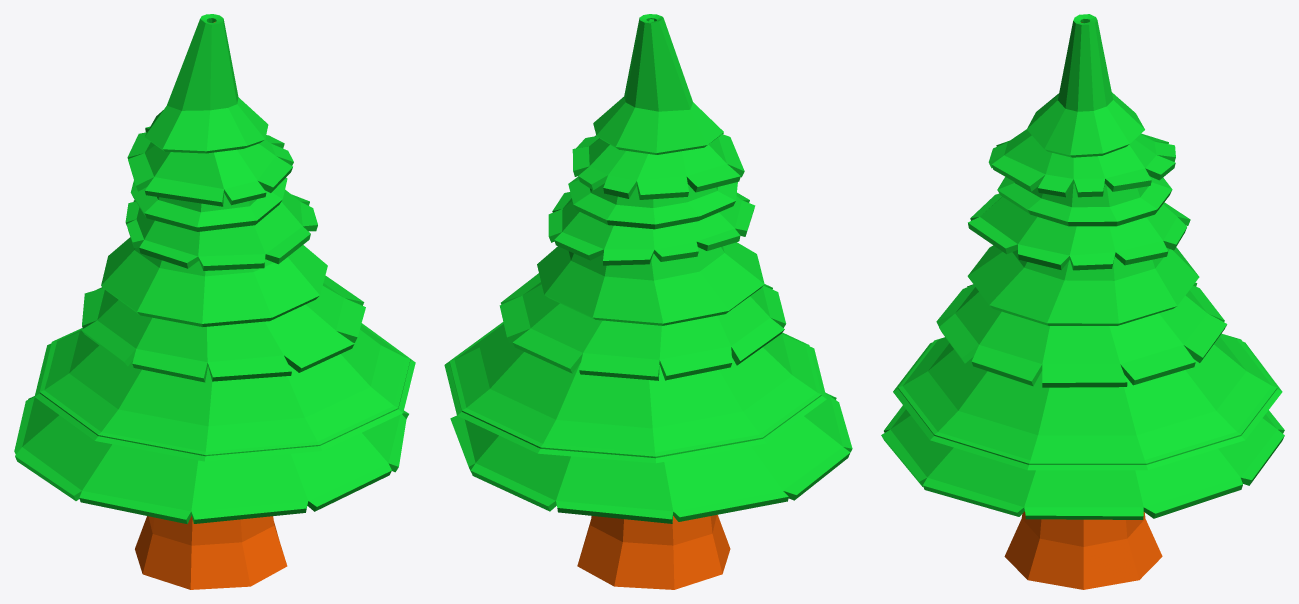
The model's file is pineTree2.fbx.
The picture shows the model from 3 angles, left to right: view 1: azimuth 30°, elevation 25°; view 2: azimuth 150°, elevation 25°; view 3: azimuth 270°, elevation 25°; orthographic projection.
Visible parts, largest first — view 1: Cylinder; view 2: Cylinder; view 3: Cylinder.
Boxes of the visible parts, bbox=[...] form: Cylinder: bbox=[14, 14, 415, 589]; Cylinder: bbox=[444, 14, 852, 589]; Cylinder: bbox=[881, 14, 1284, 589].
Size of the model in its own units: 505 by 752 by 511.
